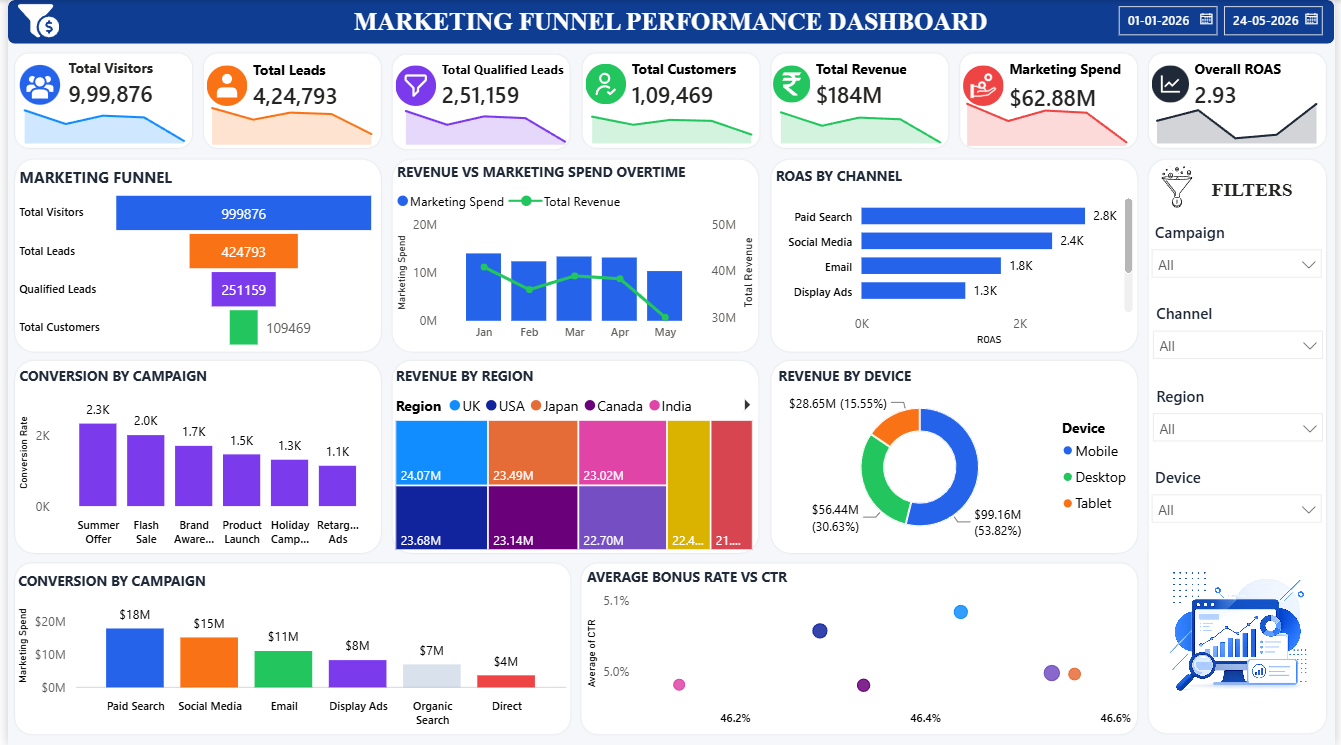

Layout of this report page (visuals, bound fields, positions):
{"tool":"powerbi","page":{"name":"Page 1","canvas":[1280,720],"ordinal":0},"visuals":[{"type":"shape","box":[1099,152.5,175,557.6],"z":0},{"type":"shape","box":[0,0,1280,42.2],"z":1000},{"type":"textbox","box":[325.7,2.4,627.3,38.6],"z":2000},{"type":"shape","box":[4.8,49.5,174.9,95.3],"z":3000},{"type":"shape","box":[187,49.5,174.9,95.3],"z":4000},{"type":"shape","box":[369.2,50.7,174.9,95.3],"z":5000},{"type":"shape","box":[552.5,49.5,174.9,95.3],"z":6000},{"type":"shape","box":[734.7,49.5,174.9,95.3],"z":7000},{"type":"shape","box":[916.9,49.5,174.9,95.3],"z":8000},{"type":"shape","box":[1099.1,49.5,174.9,95.3],"z":9000},{"type":"shape","box":[4.8,152,357.1,189.4],"z":10000},{"type":"shape","box":[369.2,152,357,189.4],"z":11000},{"type":"shape","box":[734.7,152,357.1,189.4],"z":12000},{"type":"shape","box":[4.8,346.2,357.1,189.4],"z":13000},{"type":"shape","box":[369.2,346.2,357.1,189.4],"z":14000},{"type":"shape","box":[734.7,346.2,357.1,189.4],"z":15000},{"type":"shape","box":[4.8,541.7,540,168.9],"z":16000},{"type":"shape","box":[551.3,541.7,540.5,168.9],"z":17000},{"type":"cardVisual","fields":{"Data":["Measures_Table.Total Visitors"]},"box":[4.8,50.7,174.9,62.7],"z":18000},{"type":"lineChart","fields":{"Category":["Calendar.Date.Variation.Date Hierarchy.Year","Calendar.Date.Variation.Date Hierarchy.Quarter","Calendar.Date.Variation.Date Hierarchy.Month"],"Y":["Measures_Table.Total Visitors"]},"box":[6,88.1,173.7,50.7],"z":19000},{"type":"cardVisual","fields":{"Data":["Measures_Table.Total Leads"]},"box":[187,51.9,174.9,61.5],"z":20000},{"type":"cardVisual","fields":{"Data":["Measures_Table.Qualified Leads"]},"box":[369.2,51.9,174.9,61.5],"z":21000},{"type":"cardVisual","fields":{"Data":["Measures_Table.Total Customers"]},"box":[552.5,49.5,174.9,63.9],"z":22000},{"type":"cardVisual","fields":{"Data":["Measures_Table.Total Revenue"]},"box":[733.5,49.5,174.9,63.9],"z":23000},{"type":"cardVisual","fields":{"Data":["Measures_Table.Marketing Spend"]},"box":[916.9,51.9,174.9,61.5],"z":24000},{"type":"cardVisual","fields":{"Data":["Measures_Table.ROAS"]},"box":[1099.1,49.5,174.9,63.9],"z":25000},{"type":"lineChart","fields":{"Category":["Calendar.Date.Variation.Date Hierarchy.Year","Calendar.Date.Variation.Date Hierarchy.Quarter","Calendar.Date.Variation.Date Hierarchy.Month"],"Y":["Measures_Table.Total Leads"]},"box":[187,89.3,173.7,50.7],"z":26000},{"type":"lineChart","fields":{"Category":["Calendar.Date.Variation.Date Hierarchy.Year","Calendar.Date.Variation.Date Hierarchy.Quarter","Calendar.Date.Variation.Date Hierarchy.Month"],"Y":["Measures_Table.Qualified Leads"]},"box":[374,89.3,173.7,50.7],"z":27000},{"type":"lineChart","fields":{"Category":["Calendar.Date.Variation.Date Hierarchy.Year","Calendar.Date.Variation.Date Hierarchy.Quarter","Calendar.Date.Variation.Date Hierarchy.Month"],"Y":["Measures_Table.Total Customers"]},"box":[553.8,88.1,173.7,50.7],"z":28000},{"type":"lineChart","fields":{"Category":["Calendar.Date.Variation.Date Hierarchy.Year","Calendar.Date.Variation.Date Hierarchy.Quarter","Calendar.Date.Variation.Date Hierarchy.Month"],"Y":["Measures_Table.Total Revenue"]},"box":[735.9,88.1,173.7,50.7],"z":29000},{"type":"lineChart","fields":{"Category":["Calendar.Date.Variation.Date Hierarchy.Year","Calendar.Date.Variation.Date Hierarchy.Quarter","Calendar.Date.Variation.Date Hierarchy.Month"],"Y":["Measures_Table.Marketing Spend"]},"box":[915.7,90.5,173.7,50.7],"z":30000},{"type":"lineChart","fields":{"Category":["Calendar.Date.Variation.Date Hierarchy.Year","Calendar.Date.Variation.Date Hierarchy.Quarter","Calendar.Date.Variation.Date Hierarchy.Month"],"Y":["Measures_Table.ROAS"]},"box":[1099.1,88.1,173.7,50.7],"z":31000},{"type":"funnel","title":"MARKETING FUNNEL","fields":{"Y":["Measures_Table.Total Visitors","Measures_Table.Total Leads","Measures_Table.Qualified Leads","Measures_Table.Total Customers"]},"box":[6,160.5,354.7,181],"z":32000},{"type":"lineClusteredColumnComboChart","title":"REVENUE VS MARKETING SPEND OVERTIME","fields":{"Category":["Calendar.Month"],"Y":["Sum(Marketing.Marketing_Spend)"],"Y2":["Measures_Table.Total Revenue"]},"box":[370.4,156.8,355.9,181],"z":33000},{"type":"barChart","title":"ROAS BY CHANNEL","fields":{"Category":["Marketing.Channel"],"Y":["CountNonNull(Marketing.ROAS)"]},"box":[735.9,160.5,354.7,177.3],"z":34000},{"type":"columnChart","title":"CONVERSION BY CAMPAIGN","fields":{"Category":["Marketing.Campaign"],"Y":["CountNonNull(Marketing.Conversion_Rate)"]},"box":[6,353.5,354.7,182.2],"z":35000},{"type":"treemap","title":"REVENUE BY REGION","fields":{"Group":["Marketing.Region"],"Values":["Measures_Table.Total Revenue"]},"box":[369.2,353.5,354.7,182.2],"z":36000},{"type":"donutChart","title":"REVENUE BY DEVICE","fields":{"Category":["Marketing.Device"],"Y":["Measures_Table.Total Revenue"]},"box":[738.3,353.5,354.7,177.3],"z":37000},{"type":"columnChart","title":"CONVERSION BY CAMPAIGN","fields":{"Category":["Marketing.Channel"],"Y":["Measures_Table.Marketing Spend"]},"box":[4.8,551.3,539.3,159.3],"z":38000},{"type":"scatterChart","title":"AVERAGE BONUS RATE VS CTR","fields":{"Series":["Marketing.Campaign"],"Size":["Sum(Marketing.Visitors)"],"X":["Avg(Marketing.Bounce_Rate)"],"Y":["Avg(Marketing.CTR)"]},"box":[553.9,547.6,535.1,162.5],"z":39000},{"type":"slicer","fields":{"Values":["Marketing.Date"]},"box":[1064,1.3,208.8,38.8],"z":40000},{"type":"image","box":[0,0,58.8,40],"z":41000},{"type":"slicer","fields":{"Values":["Marketing.Campaign"]},"box":[1099.1,213.7,173.8,66.3],"z":41000,"group":"g1"},{"type":"image","box":[1097.7,160,60,40],"z":42000},{"type":"slicer","fields":{"Values":["Marketing.Channel"]},"box":[1100.4,292.5,173.8,66.3],"z":42000,"group":"g1"},{"type":"group","id":"g1","title":"Group 1","box":[1099.1,213.7,175,302.6],"z":43000},{"type":"slicer","fields":{"Values":["Marketing.Region"]},"box":[1100.4,371.2,173.8,66.3],"z":43000,"group":"g1"},{"type":"textbox","box":[1132.7,172.5,136.3,27.5],"z":44000},{"type":"slicer","fields":{"Values":["Marketing.Device"]},"box":[1099.1,450,173.8,66.3],"z":44000,"group":"g1"},{"type":"image","box":[1099,531.4,175,168.8],"z":44001}]}

Visuals, with their boxes in screenshot pixels (x1, y1, x2, y2), scaled from the page's 1280x720 canvas onto the 1341x745 screenshot:
shape: pyautogui.locateOnScreen(1151, 158, 1335, 735)
shape: pyautogui.locateOnScreen(0, 0, 1340, 44)
textbox: pyautogui.locateOnScreen(341, 2, 998, 42)
shape: pyautogui.locateOnScreen(5, 51, 188, 150)
shape: pyautogui.locateOnScreen(196, 51, 379, 150)
shape: pyautogui.locateOnScreen(387, 52, 570, 151)
shape: pyautogui.locateOnScreen(579, 51, 762, 150)
shape: pyautogui.locateOnScreen(770, 51, 953, 150)
shape: pyautogui.locateOnScreen(961, 51, 1144, 150)
shape: pyautogui.locateOnScreen(1151, 51, 1335, 150)
shape: pyautogui.locateOnScreen(5, 157, 379, 353)
shape: pyautogui.locateOnScreen(387, 157, 761, 353)
shape: pyautogui.locateOnScreen(770, 157, 1144, 353)
shape: pyautogui.locateOnScreen(5, 358, 379, 554)
shape: pyautogui.locateOnScreen(387, 358, 761, 554)
shape: pyautogui.locateOnScreen(770, 358, 1144, 554)
shape: pyautogui.locateOnScreen(5, 561, 571, 735)
shape: pyautogui.locateOnScreen(578, 561, 1144, 735)
cardVisual - Measures_Table.Total Visitors: pyautogui.locateOnScreen(5, 52, 188, 117)
lineChart - Calendar.Date.Variation.Date Hierarchy.Year x Calendar.Date.Variation.Date Hierarchy.Quarter: pyautogui.locateOnScreen(6, 91, 188, 144)
cardVisual - Measures_Table.Total Leads: pyautogui.locateOnScreen(196, 54, 379, 117)
cardVisual - Measures_Table.Qualified Leads: pyautogui.locateOnScreen(387, 54, 570, 117)
cardVisual - Measures_Table.Total Customers: pyautogui.locateOnScreen(579, 51, 762, 117)
cardVisual - Measures_Table.Total Revenue: pyautogui.locateOnScreen(768, 51, 952, 117)
cardVisual - Measures_Table.Marketing Spend: pyautogui.locateOnScreen(961, 54, 1144, 117)
cardVisual - Measures_Table.ROAS: pyautogui.locateOnScreen(1151, 51, 1335, 117)
lineChart - Calendar.Date.Variation.Date Hierarchy.Year x Calendar.Date.Variation.Date Hierarchy.Quarter: pyautogui.locateOnScreen(196, 92, 378, 145)
lineChart - Calendar.Date.Variation.Date Hierarchy.Year x Calendar.Date.Variation.Date Hierarchy.Quarter: pyautogui.locateOnScreen(392, 92, 574, 145)
lineChart - Calendar.Date.Variation.Date Hierarchy.Year x Calendar.Date.Variation.Date Hierarchy.Quarter: pyautogui.locateOnScreen(580, 91, 762, 144)
lineChart - Calendar.Date.Variation.Date Hierarchy.Year x Calendar.Date.Variation.Date Hierarchy.Quarter: pyautogui.locateOnScreen(771, 91, 953, 144)
lineChart - Calendar.Date.Variation.Date Hierarchy.Year x Calendar.Date.Variation.Date Hierarchy.Quarter: pyautogui.locateOnScreen(959, 94, 1141, 146)
lineChart - Calendar.Date.Variation.Date Hierarchy.Year x Calendar.Date.Variation.Date Hierarchy.Quarter: pyautogui.locateOnScreen(1151, 91, 1333, 144)
"MARKETING FUNNEL" funnel: pyautogui.locateOnScreen(6, 166, 378, 353)
"REVENUE VS MARKETING SPEND OVERTIME" lineClusteredColumnComboChart: pyautogui.locateOnScreen(388, 162, 761, 350)
"ROAS BY CHANNEL" barChart: pyautogui.locateOnScreen(771, 166, 1143, 350)
"CONVERSION BY CAMPAIGN" columnChart: pyautogui.locateOnScreen(6, 366, 378, 554)
"REVENUE BY REGION" treemap: pyautogui.locateOnScreen(387, 366, 758, 554)
"REVENUE BY DEVICE" donutChart: pyautogui.locateOnScreen(773, 366, 1145, 549)
"CONVERSION BY CAMPAIGN" columnChart: pyautogui.locateOnScreen(5, 570, 570, 735)
"AVERAGE BONUS RATE VS CTR" scatterChart: pyautogui.locateOnScreen(580, 567, 1141, 735)
slicer - Marketing.Date: pyautogui.locateOnScreen(1115, 1, 1333, 41)
image: pyautogui.locateOnScreen(0, 0, 62, 41)
slicer - Marketing.Campaign: pyautogui.locateOnScreen(1151, 221, 1334, 290)
image: pyautogui.locateOnScreen(1150, 166, 1213, 207)
slicer - Marketing.Channel: pyautogui.locateOnScreen(1153, 303, 1335, 371)
"Group 1" group: pyautogui.locateOnScreen(1151, 221, 1335, 534)
slicer - Marketing.Region: pyautogui.locateOnScreen(1153, 384, 1335, 453)
textbox: pyautogui.locateOnScreen(1187, 178, 1329, 207)
slicer - Marketing.Device: pyautogui.locateOnScreen(1151, 466, 1334, 534)
image: pyautogui.locateOnScreen(1151, 550, 1335, 725)
